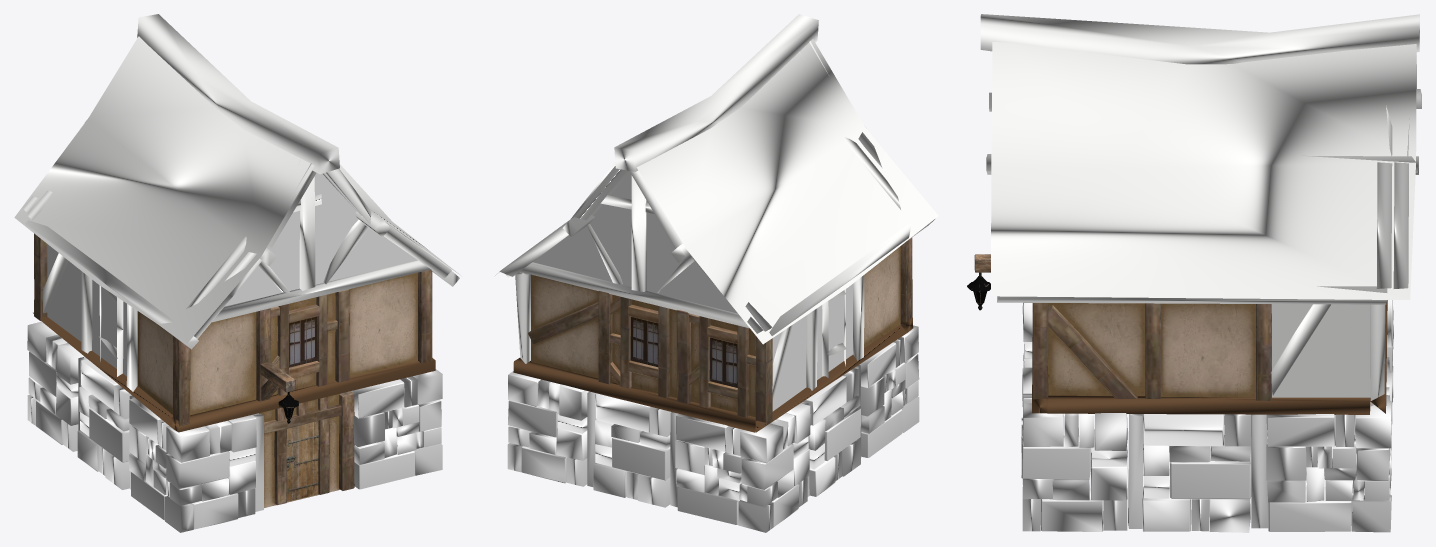
3 renders of one model, left to right at view 1: azimuth 30°, elevation 25°; view 2: azimuth 150°, elevation 25°; view 3: azimuth 270°, elevation 25°, orthographic. The views are drawn at different scales.
Parts seen in each view (by area): view 1: Cube.058, beam long lp.042, corner stone wall 1.013; view 2: Cube.058, corner stone wall 1.013, beam long lp.042; view 3: Cube.058, corner stone wall 1.013, beam long lp.042.
Part boxes in pixels (<box>): Cube.058: <box>14,14,460,391</box>; beam long lp.042: <box>33,233,435,507</box>; corner stone wall 1.013: <box>27,321,442,532</box>; Cube.058: <box>495,14,938,411</box>; corner stone wall 1.013: <box>507,325,919,532</box>; beam long lp.042: <box>513,237,913,432</box>; Cube.058: <box>980,14,1421,406</box>; corner stone wall 1.013: <box>1021,300,1393,532</box>; beam long lp.042: <box>967,254,1387,414</box>.
Size of the model in its own units: 6.37 by 8.06 by 7.57.
3 materials, 1 textured.
